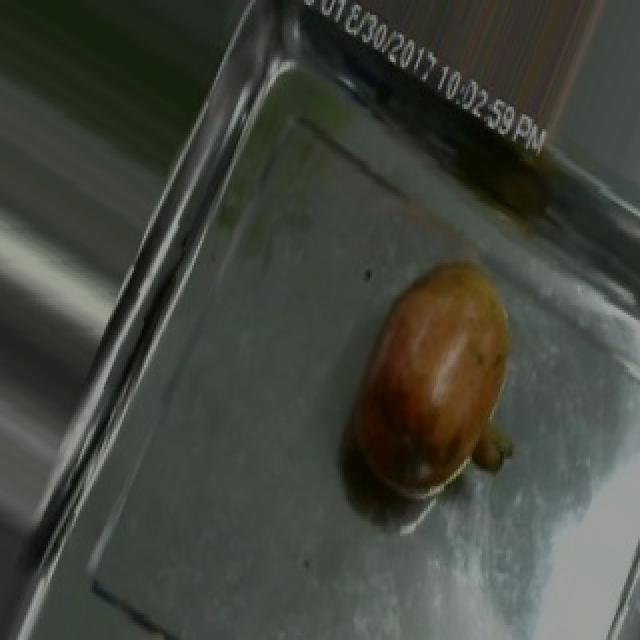fruit: (326, 231, 540, 523)
